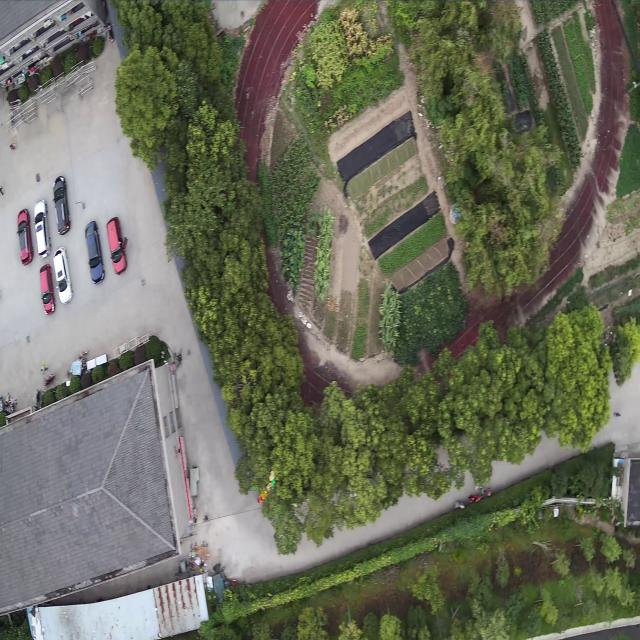UAV: (68, 502, 83, 524)
